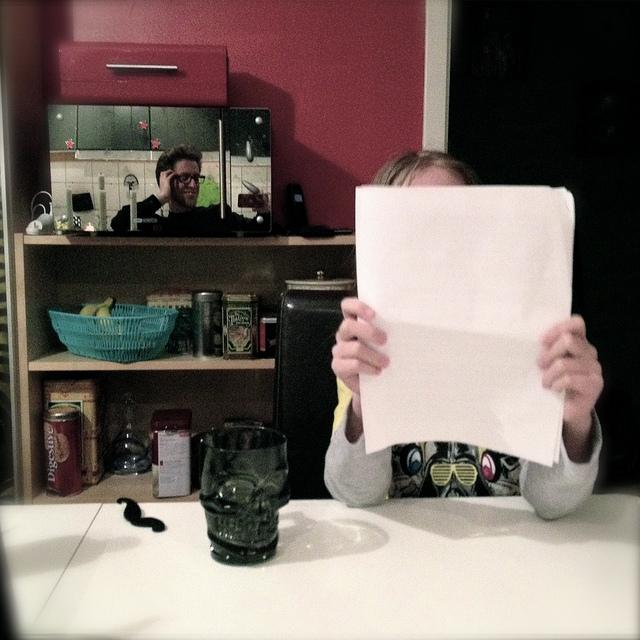banana: (79, 298, 112, 316)
